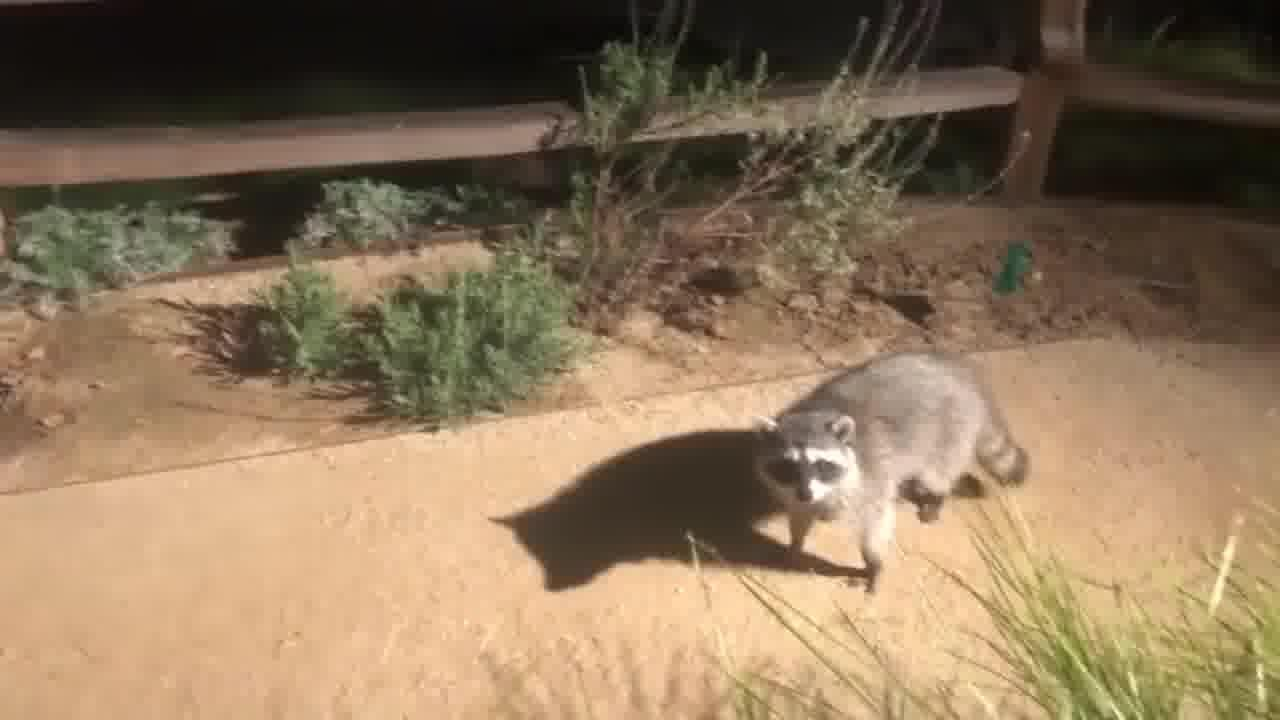raccoon: (742, 354, 1040, 592)
